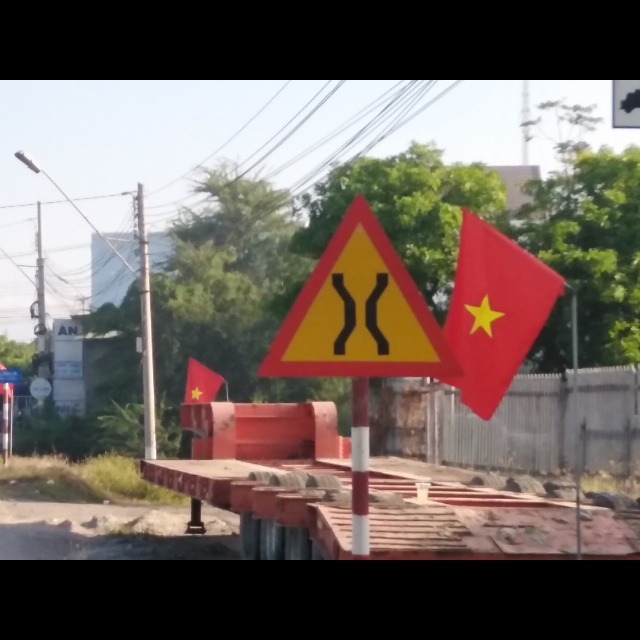Cầu hẹp: (253, 189, 468, 381)
